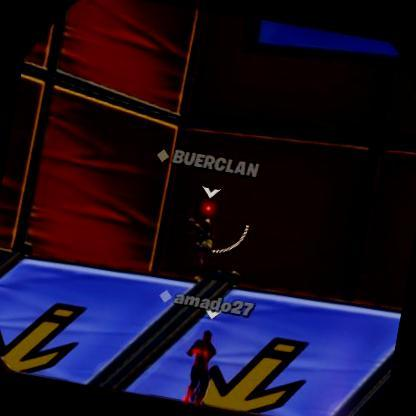person: (184, 328, 220, 408), (190, 210, 216, 270)
